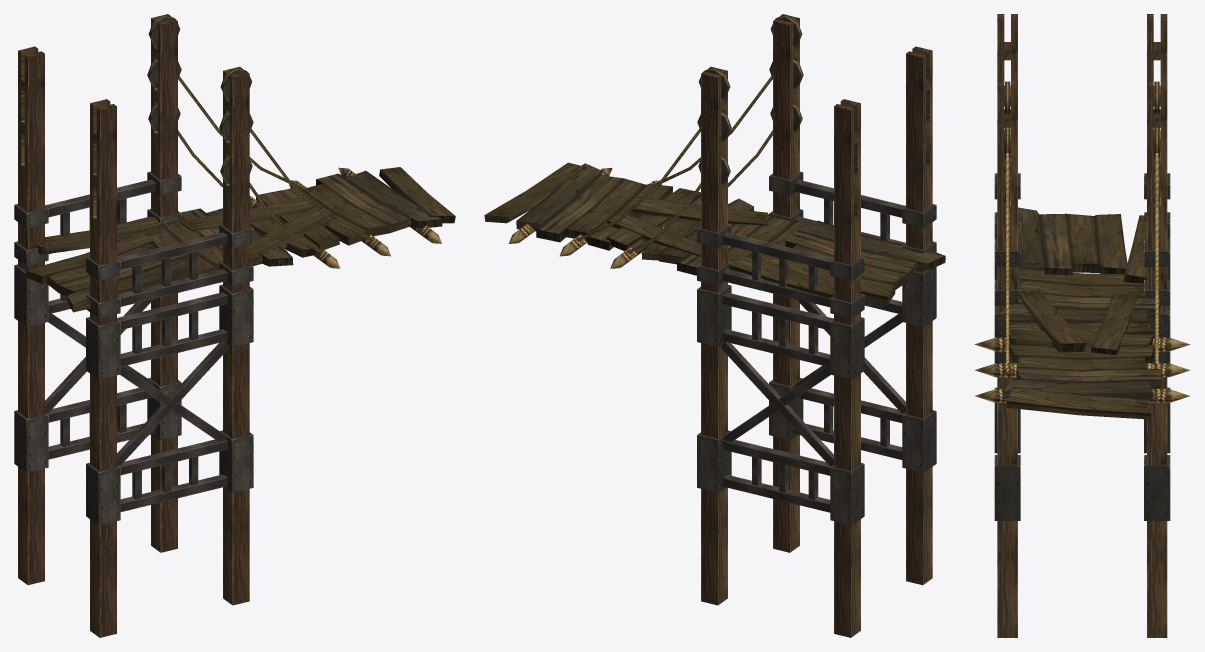
File: Battle04_Bridgei_01.FBX
3 views of the same model, side by side, from view 1: azimuth 30°, elevation 25°; view 2: azimuth 150°, elevation 25°; view 3: azimuth 270°, elevation 25° (orthographic). The views are drawn at different scales.
Parts seen in each view (by area): view 1: Battle04_Bridgei_01_02, Battle04_Bridgei_01_01; view 2: Battle04_Bridgei_01_02, Battle04_Bridgei_01_01; view 3: Battle04_Bridgei_01_01, Battle04_Bridgei_01_02.
Boxes of the visible parts, left/top/right/bottom form: Battle04_Bridgei_01_02: left=18, top=14, right=249, bottom=637; Battle04_Bridgei_01_01: left=14, top=15, right=455, bottom=525; Battle04_Bridgei_01_02: left=701, top=14, right=932, bottom=637; Battle04_Bridgei_01_01: left=484, top=15, right=945, bottom=525; Battle04_Bridgei_01_01: left=974, top=81, right=1190, bottom=520; Battle04_Bridgei_01_02: left=997, top=14, right=1167, bottom=637.
Bounding box in the file's own units: 20.68 × 26.59 × 9.46.
